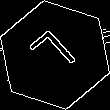L_SE: (26, 26, 84, 84)
